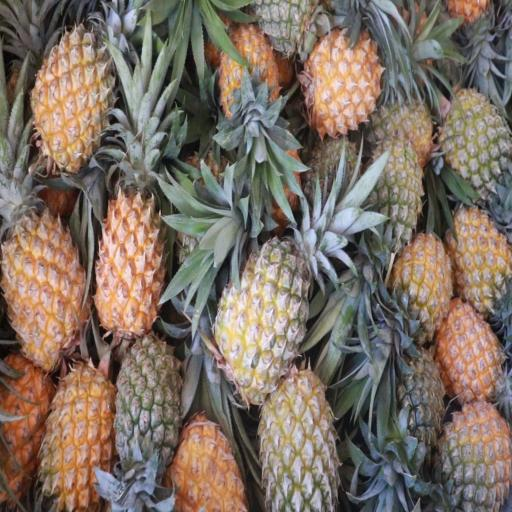------------------------------: (222, 244, 311, 395), (260, 366, 334, 512)
Pineapple - v8 v1: (2, 194, 83, 361), (46, 358, 118, 507), (96, 184, 164, 338), (35, 29, 112, 164), (0, 355, 53, 503), (311, 30, 388, 129), (442, 306, 507, 410), (454, 204, 512, 314), (177, 420, 246, 512), (398, 232, 452, 342), (221, 26, 282, 122)
